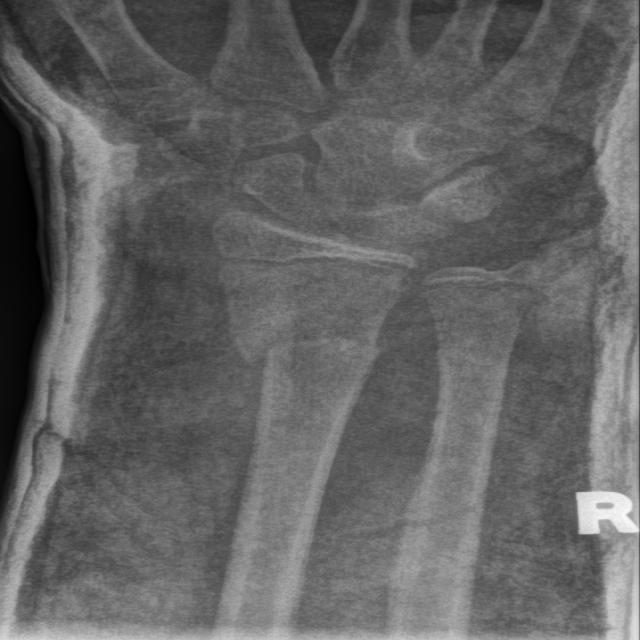radius fracture: (214, 310, 392, 479)
